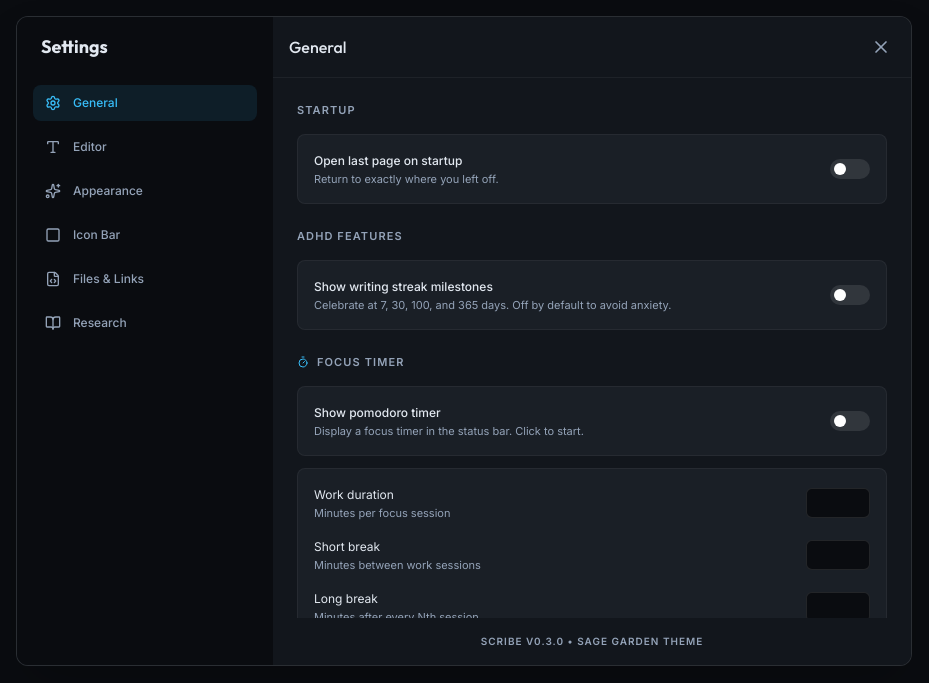
Test: SettingsModal › Tab Navigation › should switch to Files & Links tab
Click the button "Files & Links": (145, 279) top-left (33, 261), bottom-right (257, 297)
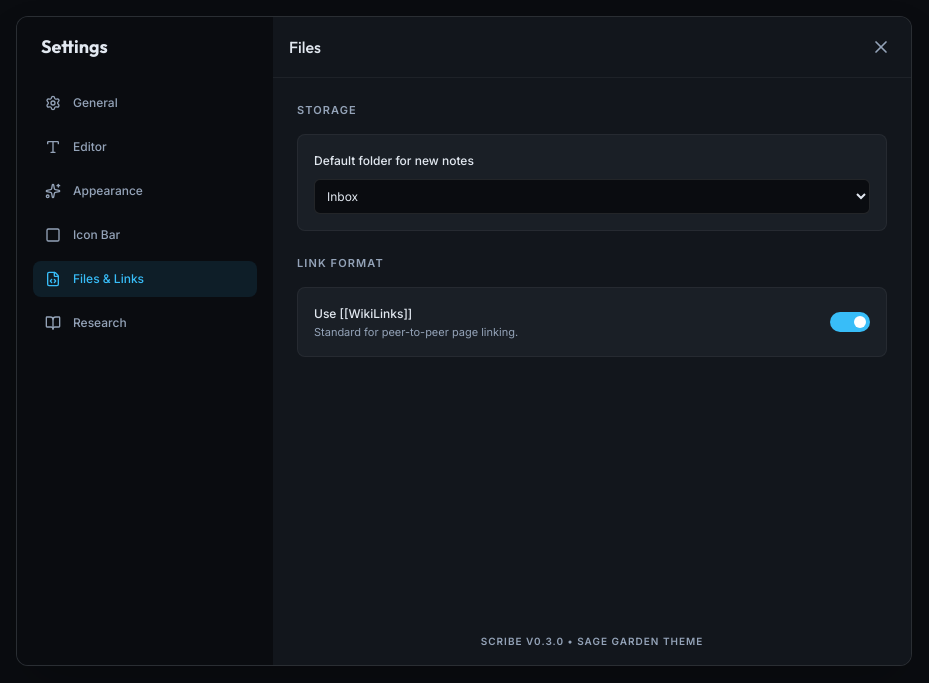
Expected: the heading "Storage" is shown, top-left (297, 103), bottom-right (357, 117)
